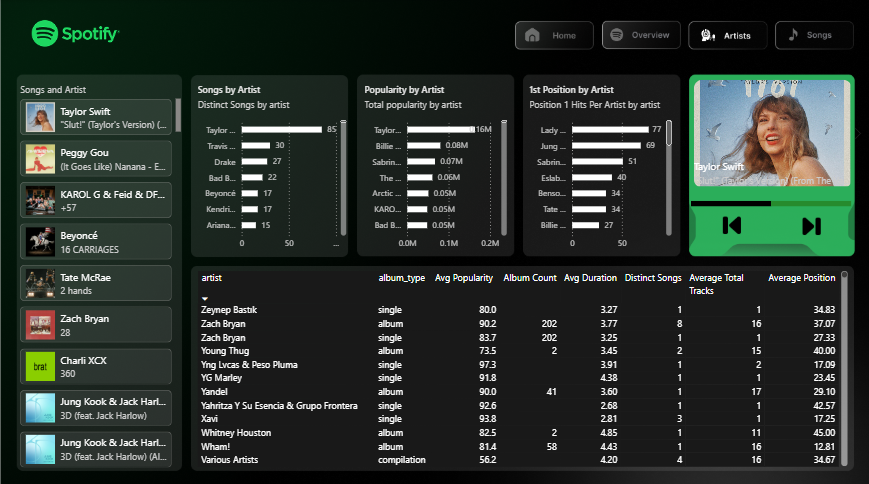

What the dashboard file says about the page in this screenshot:
{"tool":"powerbi","page":{"name":"Artist","canvas":[1280,720],"ordinal":2},"visuals":[{"type":"actionButton","box":[101.8,427.3,114.1,40.1],"z":0},{"type":"actionButton","box":[228.3,427.3,114.1,40.1],"z":1000},{"type":"actionButton","box":[354.8,427.3,114.1,40.1],"z":2000},{"type":"actionButton","box":[481.3,427.3,114.1,40.1],"z":3000},{"type":"actionButton","box":[756.7,33.3,114.1,40.1],"z":4000},{"type":"actionButton","box":[883.2,33.3,114.1,40.1],"z":5000},{"type":"actionButton","box":[1009.7,33.3,114.1,40.1],"z":6000},{"type":"actionButton","box":[1136.2,33.3,114.1,40.1],"z":7000},{"type":"advancedSlicerVisual","title":"Songs and Artist","fields":{"Values":["Top-50-World.song"],"Label":["Min(Top-50-World.artist)"]},"box":[993.4,112.6,282.3,169.7],"z":8000},{"type":"hundredPercentStackedBarChart","fields":{"Y":["_Measures.Avg Popularity","Avg(Top-50-World.popularity)"]},"box":[1010.4,262.2,245.3,71],"z":9000},{"type":"group","id":"g1","title":"Group 1","box":[1055.1,317.8,157.3,32.4],"z":10000},{"type":"shape","box":[1011.9,104.9,245.3,290],"z":11000},{"type":"clusteredBarChart","title":" Songs by Artist","fields":{"Y":["_Measures.Distinct Songs"],"Category":["Top-50-World.artist"]},"box":[285.4,123.4,228.3,253],"z":12000},{"type":"clusteredBarChart","title":" Songs by Artist","fields":{"Y":["Sum(Top-50-World.popularity)"],"Category":["Top-50-World.song"]},"box":[530.6,123.4,219,253],"z":13000},{"type":"advancedSlicerVisual","title":"Songs and Artist","fields":{"Values":["Top-50-World.song"],"Label":["Min(Top-50-World.artist)"]},"box":[24.7,123.4,246.8,569.2],"z":14000},{"type":"clusteredBarChart","title":" Songs by Artist","fields":{"Y":["Sum(Top-50-World.popularity)"],"Category":["Top-50-World.song"]},"box":[774.4,123.4,219,253],"z":15000},{"type":"tableEx","fields":{"Values":["Top-50-World.song","_Measures.Avg Popularity","Top-50-World.release_date.Variation.Date Hierarchy.Year","_Measures.Maximum Popularity","_Measures.Avg Duration"]},"box":[354.6,468.1,838.5,223.8],"z":15001},{"type":"image","box":[1172.7,319.3,40,30],"z":20000,"group":"g1"},{"type":"image","box":[1055.1,317.8,40,30],"z":21000,"group":"g1"}]}

Visuals, with their boxes in screenshot pixels (x1, y1, x2, y2), scaled from the page's 1280x720 canvas onto the 869x484 screenshot:
actionButton: (x1=69, y1=287, x2=147, y2=314)
actionButton: (x1=155, y1=287, x2=232, y2=314)
actionButton: (x1=241, y1=287, x2=318, y2=314)
actionButton: (x1=327, y1=287, x2=404, y2=314)
actionButton: (x1=514, y1=22, x2=591, y2=49)
actionButton: (x1=600, y1=22, x2=677, y2=49)
actionButton: (x1=685, y1=22, x2=763, y2=49)
actionButton: (x1=771, y1=22, x2=849, y2=49)
"Songs and Artist" advancedSlicerVisual: (x1=674, y1=76, x2=866, y2=190)
hundredPercentStackedBarChart - _Measures.Avg Popularity x Avg(Top-50-World.popularity): (x1=686, y1=176, x2=853, y2=224)
"Group 1" group: (x1=716, y1=214, x2=823, y2=235)
shape: (x1=687, y1=71, x2=854, y2=265)
" Songs by Artist" clusteredBarChart: (x1=194, y1=83, x2=349, y2=253)
" Songs by Artist" clusteredBarChart: (x1=360, y1=83, x2=509, y2=253)
"Songs and Artist" advancedSlicerVisual: (x1=17, y1=83, x2=184, y2=466)
" Songs by Artist" clusteredBarChart: (x1=526, y1=83, x2=674, y2=253)
tableEx - Top-50-World.song x _Measures.Avg Popularity: (x1=241, y1=315, x2=810, y2=465)
image: (x1=796, y1=215, x2=823, y2=235)
image: (x1=716, y1=214, x2=743, y2=234)
